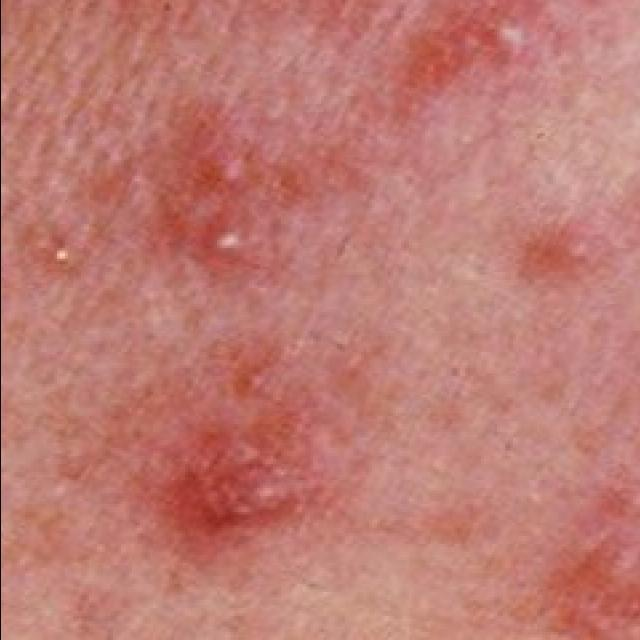acne: (126, 320, 376, 608), (120, 82, 310, 296), (504, 458, 640, 638), (0, 178, 104, 322), (446, 0, 576, 93), (501, 206, 611, 296), (435, 470, 493, 566)
